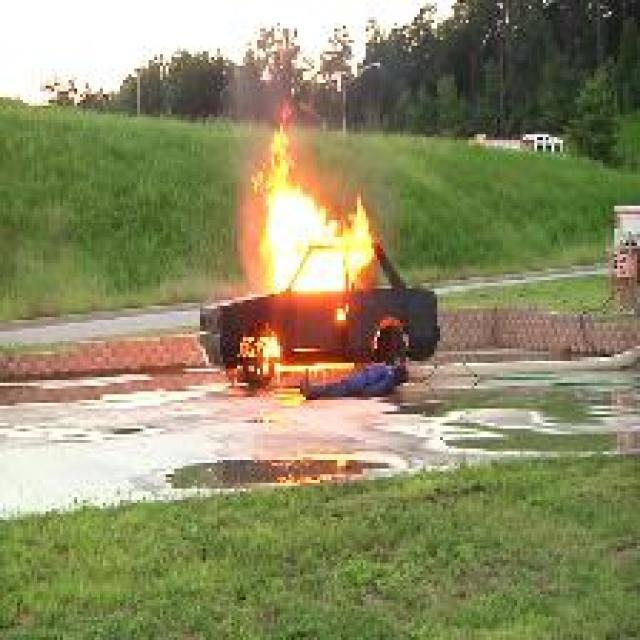Fire: (256, 105, 376, 292)
